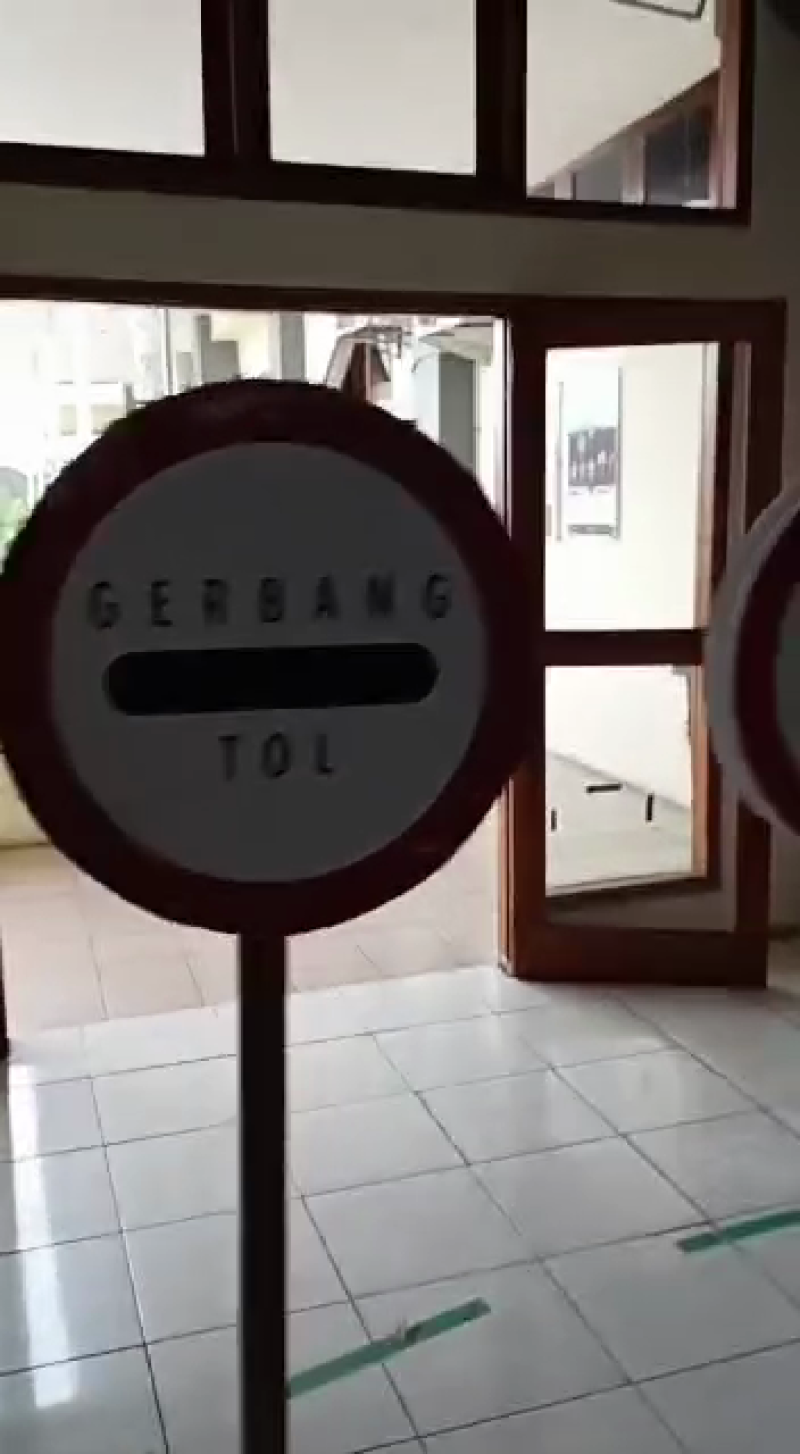gerbang tol: (1, 366, 536, 950)
